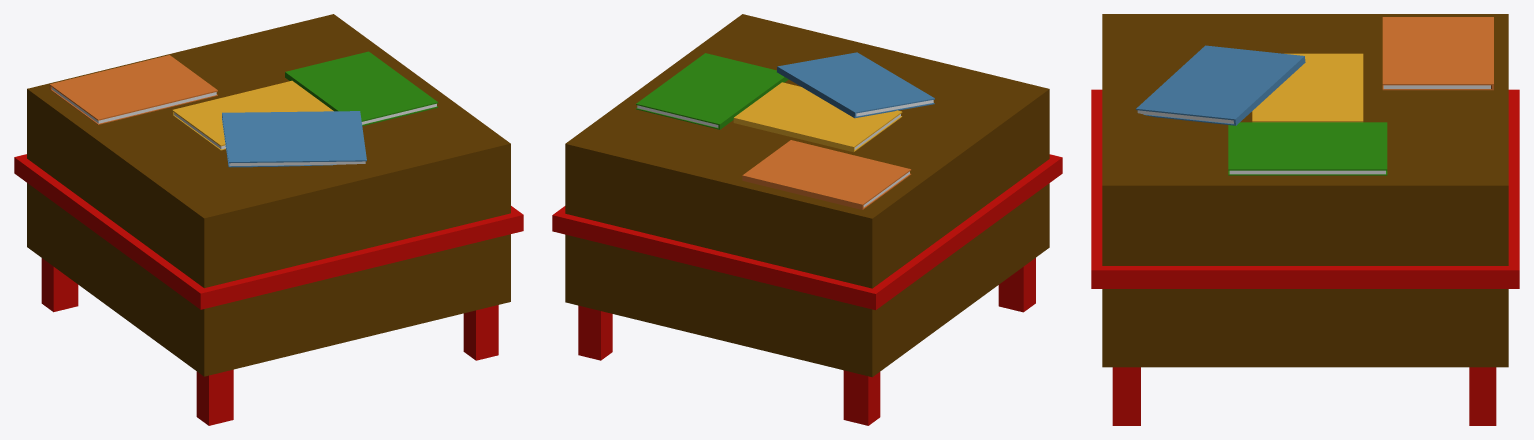
Rendered from table_magazines.fbx.
3 renders of one model, left to right at view 1: azimuth 30°, elevation 25°; view 2: azimuth 150°, elevation 25°; view 3: azimuth 270°, elevation 25°, orthographic. The views are drawn at different scales.
Parts seen in each view (by area): view 1: H_Table_Magazines; view 2: H_Table_Magazines; view 3: H_Table_Magazines.
Part boxes in pixels (<box>): H_Table_Magazines: <box>14,14,523,425</box>; H_Table_Magazines: <box>552,14,1062,425</box>; H_Table_Magazines: <box>1091,14,1519,425</box>.
Size of the model in its own units: 492 by 492 by 332.
